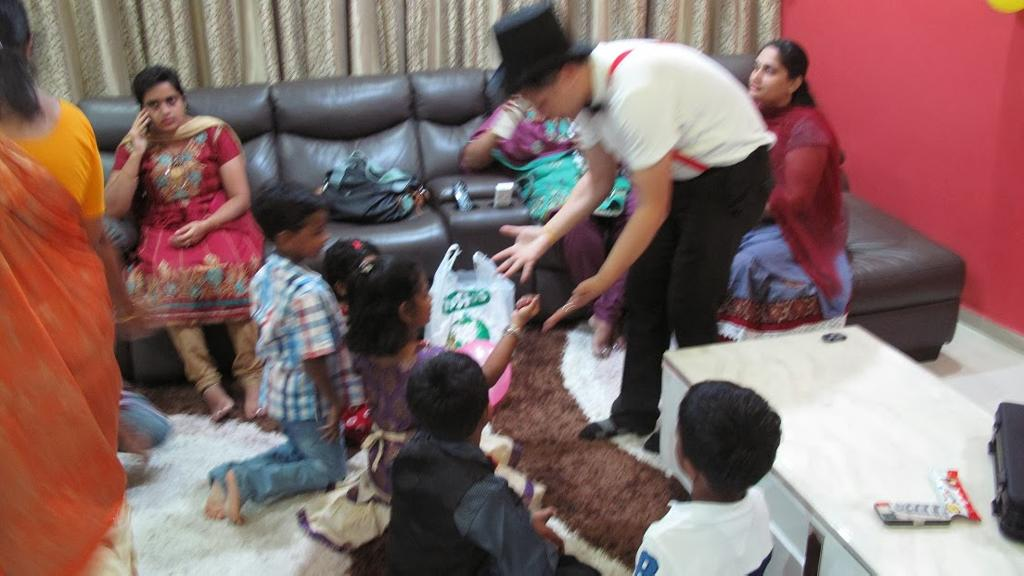face: (520, 66, 578, 120), (749, 47, 788, 97), (142, 82, 182, 130), (291, 212, 329, 259), (398, 276, 432, 323)
